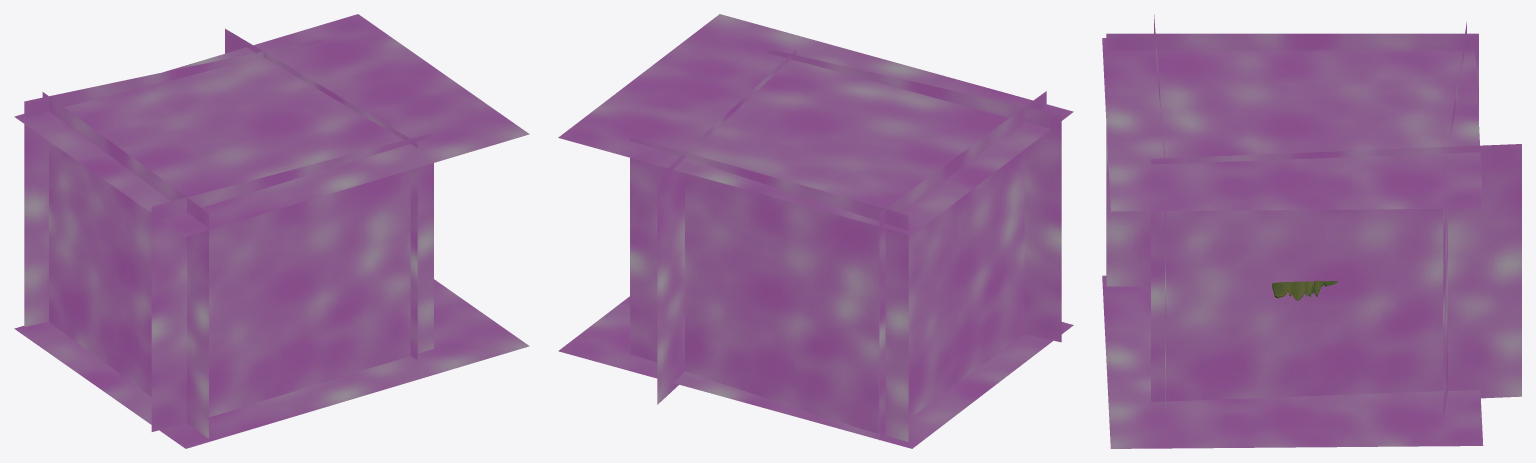
The model's file is mapa1-transformed.glb.
The picture shows the model from 3 angles, left to right: view 1: azimuth 30°, elevation 25°; view 2: azimuth 150°, elevation 25°; view 3: azimuth 270°, elevation 25°; orthographic projection. The views are drawn at different scales.
Visible parts, largest first — view 1: images; view 2: images; view 3: images, Cube.004.
Part boxes in pixels (x1=…): images: x1=14, y1=14, x2=529, y2=448; images: x1=558, y1=14, x2=1073, y2=448; images: x1=1102, y1=14, x2=1521, y2=448; Cube.004: x1=1272, y1=280, x2=1337, y2=300.
Bounding box in the file's own units: 14597 × 8859 × 13189.
Materials: 12 (5 with a texture image).
